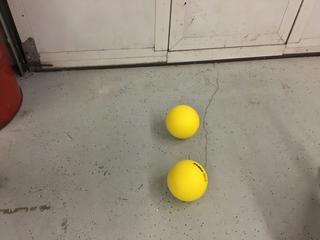power_cell: (169, 157, 209, 206), (162, 100, 201, 143)
